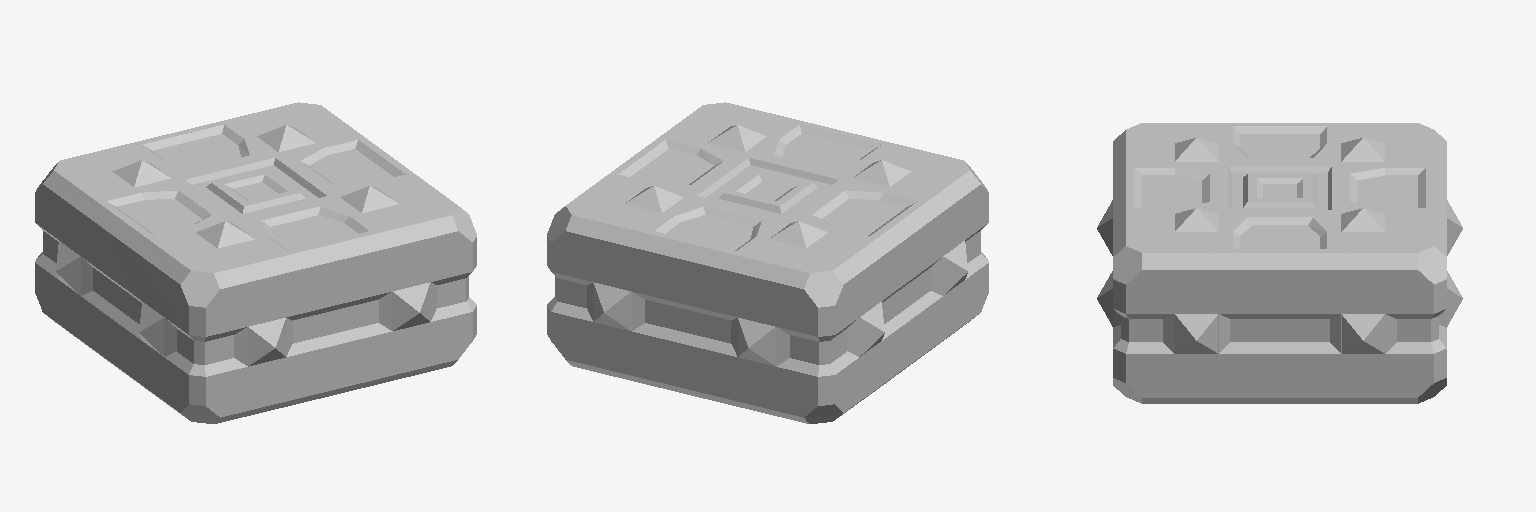
File: YK_Large_Anchor.obj
3 views of the same model, side by side, from view 1: azimuth 30°, elevation 25°; view 2: azimuth 150°, elevation 25°; view 3: azimuth 270°, elevation 25° (orthographic).
Parts seen in each view (by area): view 1: BF_Block_111.013, BF_Block_111.006; view 2: BF_Block_111.013, BF_Block_111.006; view 3: BF_Block_111.013, BF_Block_111.006.
Part boxes in pixels (bbox=[...]): BF_Block_111.013: bbox=[35, 102, 476, 423]; BF_Block_111.006: bbox=[56, 125, 430, 366]; BF_Block_111.013: bbox=[547, 102, 988, 423]; BF_Block_111.006: bbox=[593, 125, 967, 366]; BF_Block_111.013: bbox=[1113, 123, 1446, 403]; BF_Block_111.006: bbox=[1097, 138, 1462, 353].
Bounding box in the file's own units: 2.2 × 1.1 × 2.2.